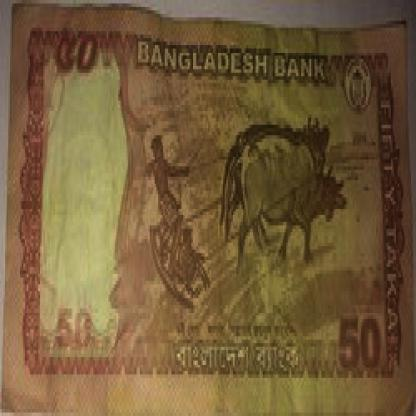Fifty taka: (53, 24, 122, 97), (331, 305, 388, 374)
